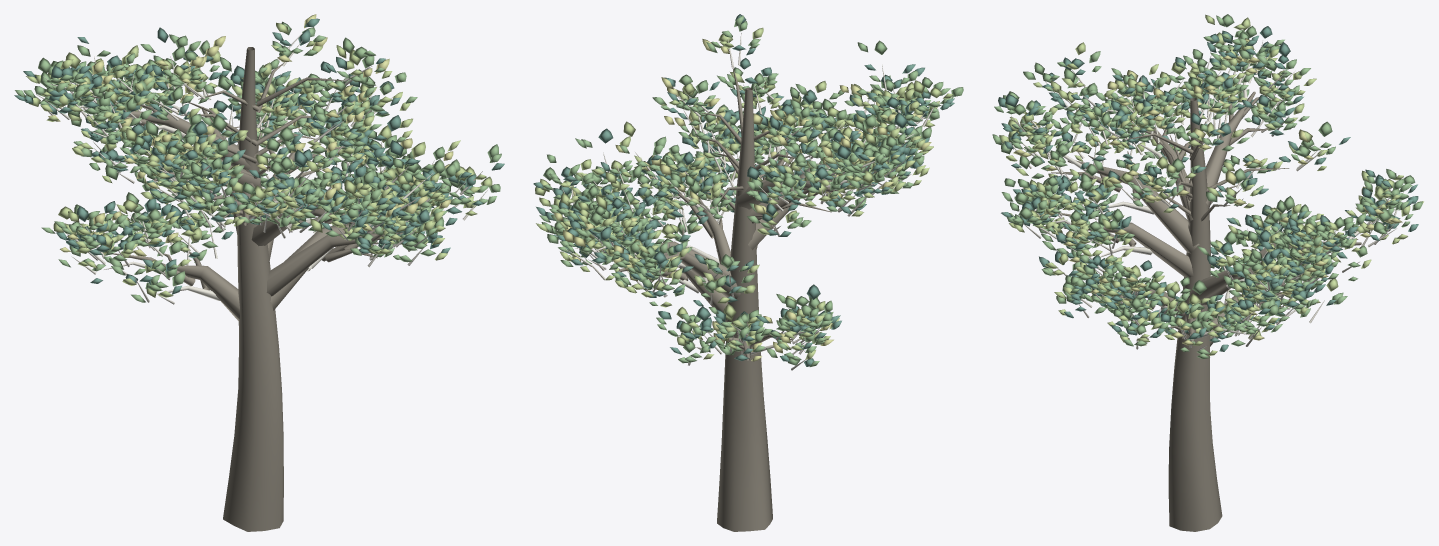
Rendered from oak_arch.glb.
3 views of the same model, side by side, from view 1: azimuth 30°, elevation 25°; view 2: azimuth 150°, elevation 25°; view 3: azimuth 270°, elevation 25° (orthographic). The views are drawn at different scales.
Parts seen in each view (by area): view 1: oak_arch; view 2: oak_arch; view 3: oak_arch.
Part boxes in pixels (box(x1,y1,x2,y2)): oak_arch: box(14, 14, 504, 531); oak_arch: box(533, 14, 963, 531); oak_arch: box(992, 14, 1423, 531).
Bounding box in the file's own units: 7.52 × 8.35 × 7.41.
